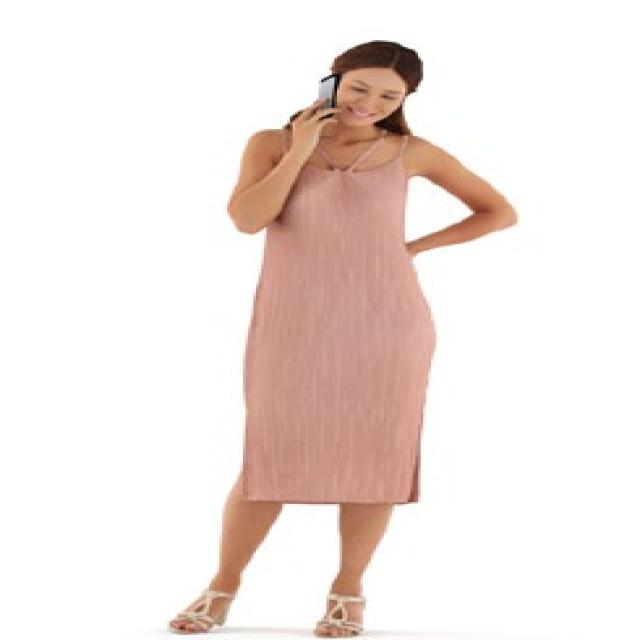standing: (156, 35, 514, 640)
